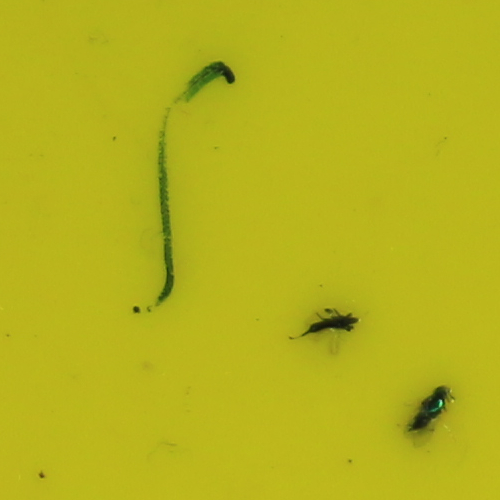Psyllaephagus: (408, 383, 453, 432)
